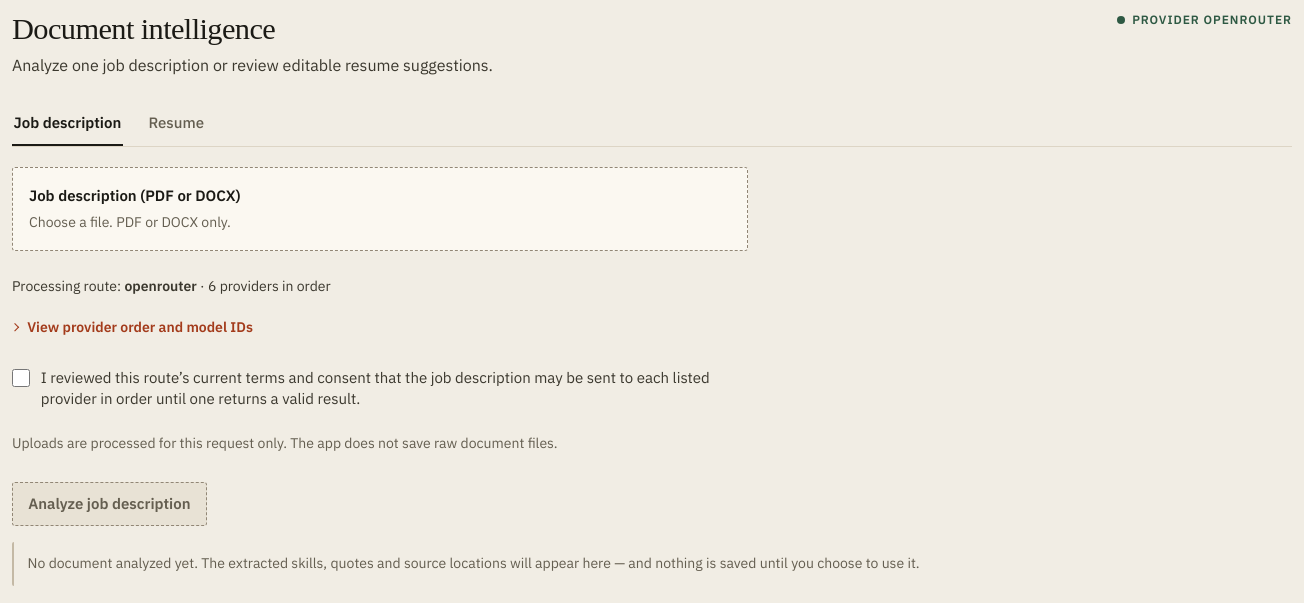
Scenario: document intelligence screen › keeps external resume processing blocked until backend terms review is enabled
Click the tab "Resume" at {"x": 176, "y": 124}, box x1=147 y1=102 x2=206 y2=146
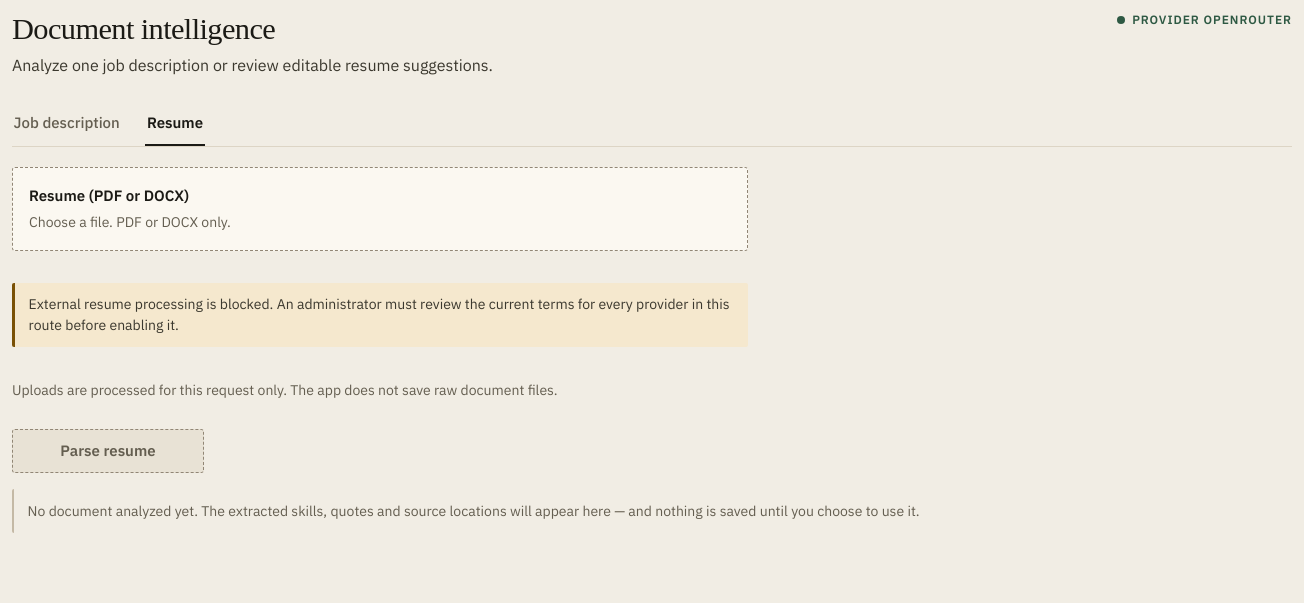
Now the text "External resume processing is blocked" is shown, box x1=29 y1=295 x2=730 y2=334
